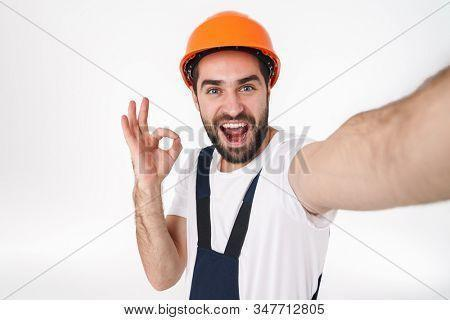helmet: (178, 10, 282, 86)
